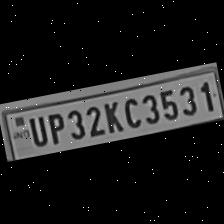1: (194, 77, 218, 114)
2: (82, 100, 106, 139)
3: (174, 82, 200, 119), (138, 88, 162, 127), (62, 104, 86, 142)
5: (155, 85, 180, 122)
C: (118, 94, 143, 131)
K: (100, 97, 124, 135)
P: (44, 108, 68, 146)
U: (24, 113, 48, 149)
